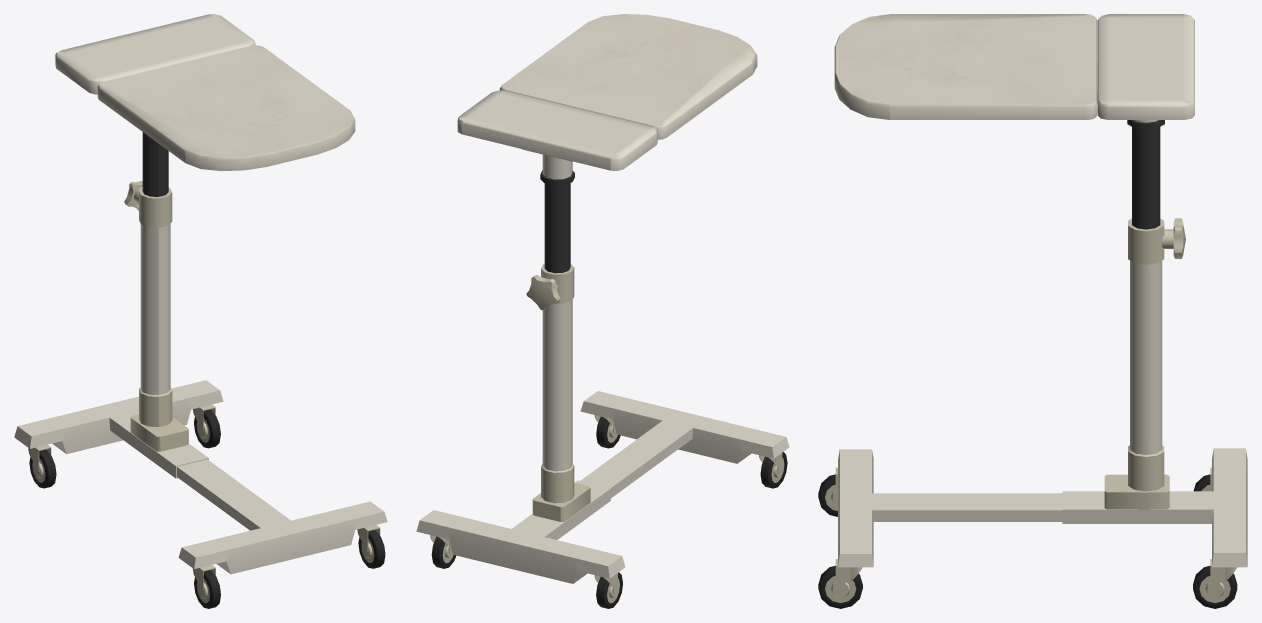
The model's file is bedside-table.glb.
3 renders of one model, left to right at view 1: azimuth 30°, elevation 25°; view 2: azimuth 150°, elevation 25°; view 3: azimuth 270°, elevation 25°, orthographic. The views are drawn at different scales.
Visible parts, largest first — view 1: Table, Base, Base_Extender, Upper; view 2: Table, Base, Upper, Base_Extender; view 3: Table, Base, Upper, Base_Extender.
Part boxes in pixels (bbox=[...]): Table: bbox=[97, 45, 355, 171]; Base: bbox=[14, 180, 223, 488]; Base_Extender: bbox=[177, 459, 387, 608]; Upper: bbox=[55, 14, 255, 196]; Table: bbox=[499, 14, 757, 139]; Base: bbox=[416, 264, 625, 608]; Upper: bbox=[457, 90, 657, 273]; Base_Extender: bbox=[580, 391, 789, 497]; Table: bbox=[834, 14, 1097, 119]; Base: bbox=[1062, 218, 1247, 608]; Upper: bbox=[1097, 14, 1194, 229]; Base_Extender: bbox=[818, 449, 1062, 608].
Size of the model in its own units: 13.85 by 30.16 by 23.38.
Materials: 1 (1 with a texture image).
